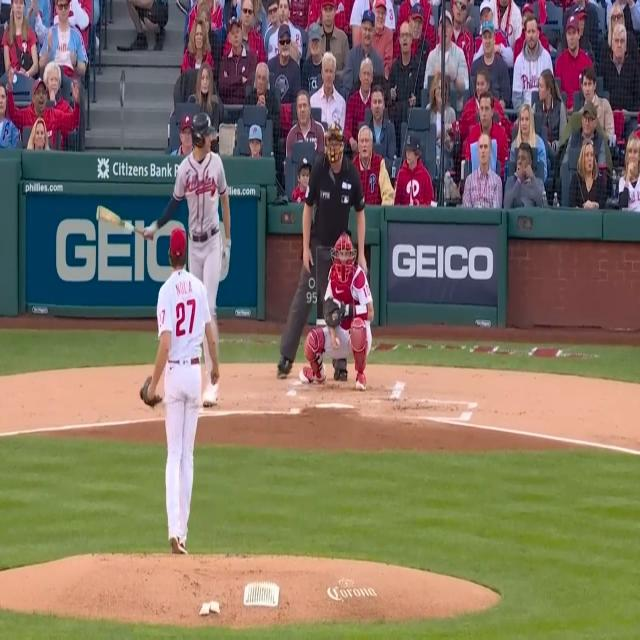baseball: (335, 334, 341, 349)
